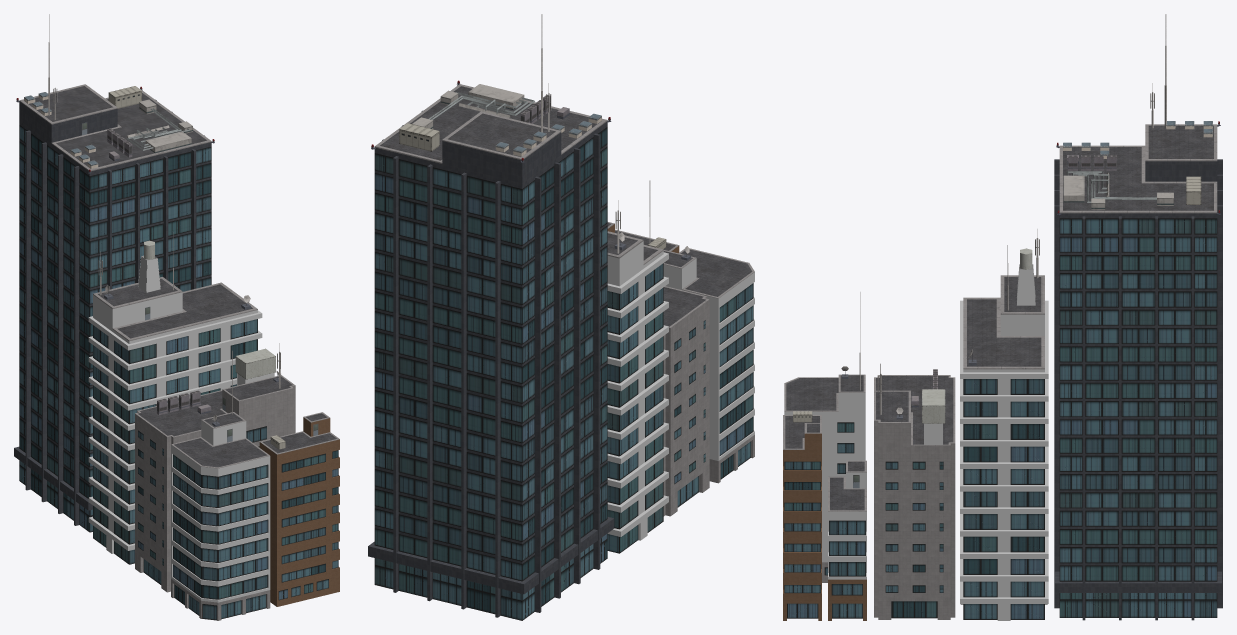
File: buildSetA.FBX
The picture shows the model from 3 angles, left to right: view 1: azimuth 30°, elevation 25°; view 2: azimuth 150°, elevation 25°; view 3: azimuth 270°, elevation 25°; orthographic projection. The views are drawn at different scales.
Visible parts, largest first — view 1: buildSetA; view 2: buildSetA; view 3: buildSetA.
Part boxes in pixels (<box>): buildSetA: <box>14,14,339,620</box>; buildSetA: <box>368,14,754,620</box>; buildSetA: <box>783,14,1222,620</box>.
Size of what is drawn, in the model's own units: 916 by 2319 by 3148.
